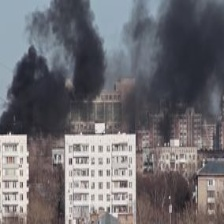smoke: (2, 1, 224, 132)
